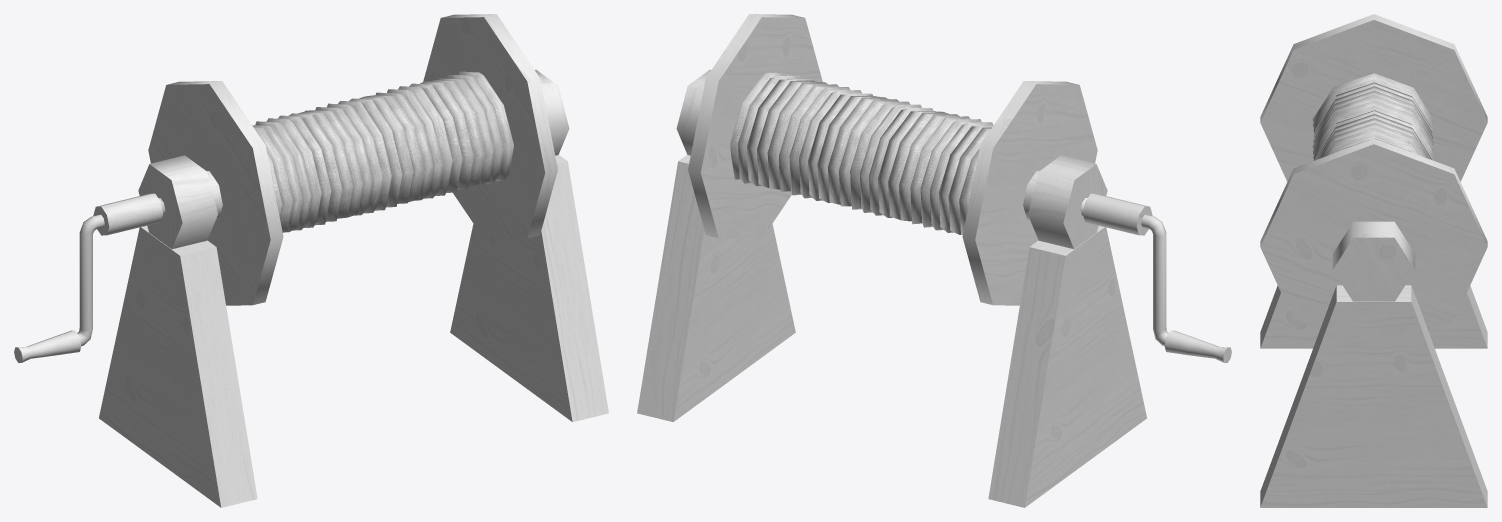
The model's file is Fishing Wheel.fbx.
3 renders of one model, left to right at view 1: azimuth 30°, elevation 25°; view 2: azimuth 150°, elevation 25°; view 3: azimuth 270°, elevation 25°, orthographic. The views are drawn at different scales.
Visible parts, largest first — view 1: Rotatorypart, Base; view 2: Rotatorypart, Base; view 3: Rotatorypart, Base.
Boxes of the visible parts, left/top/right/bottom form: Rotatorypart: left=14, top=14, right=557, bottom=363; Base: left=99, top=69, right=608, bottom=507; Rotatorypart: left=688, top=14, right=1231, bottom=363; Base: left=637, top=69, right=1146, bottom=507; Rotatorypart: left=1260, top=14, right=1487, bottom=329; Base: left=1260, top=221, right=1487, bottom=507.
Bounding box in the file's own units: 2 × 3.31 × 4.99.
